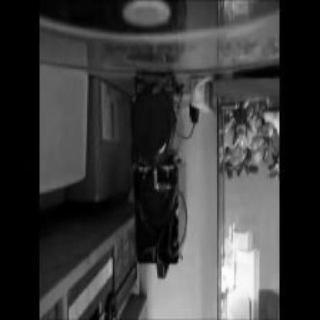other: (222, 228, 268, 318), (224, 134, 268, 178), (112, 230, 142, 292)
